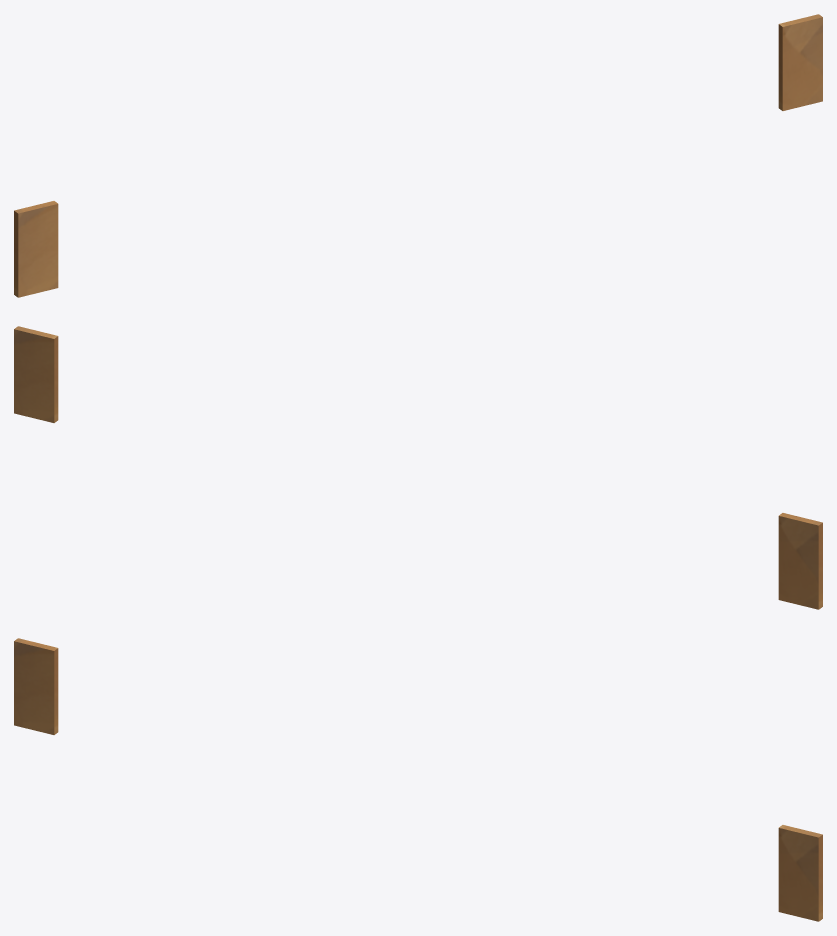
Rendered from OpeningBaseboard.fbx.
3 renders of one model, top to bottom at view 1: azimuth 30°, elevation 25°; view 2: azimuth 150°, elevation 25°; view 3: azimuth 330°, elevation 25°, orthographic.
Visible parts, largest first — view 1: mdl_poi_opening_baseboard; view 2: mdl_poi_opening_baseboard; view 3: mdl_poi_opening_baseboard.
Part boxes in pixels (x1,y1,x2,y2): mdl_poi_opening_baseboard: [14, 14, 822, 297]; mdl_poi_opening_baseboard: [14, 326, 822, 609]; mdl_poi_opening_baseboard: [14, 638, 822, 921].
Size of the model in its own units: 1 by 0.1 by 0.009.
